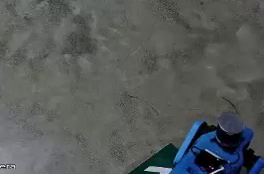robot dog: (165, 112, 263, 174)
